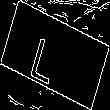L_N: (37, 26, 73, 84)
